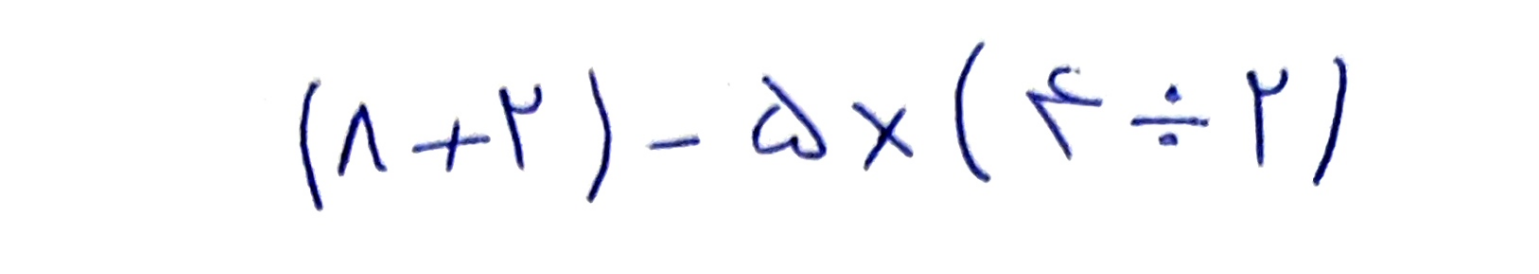character: (1026, 66, 1107, 159), (750, 72, 827, 161), (1128, 84, 1210, 151), (954, 41, 991, 184), (1310, 56, 1348, 189), (409, 115, 492, 173), (850, 100, 913, 173), (1245, 66, 1291, 164), (498, 82, 544, 171), (335, 104, 388, 176), (585, 66, 612, 202), (299, 76, 326, 210), (648, 133, 702, 151)
